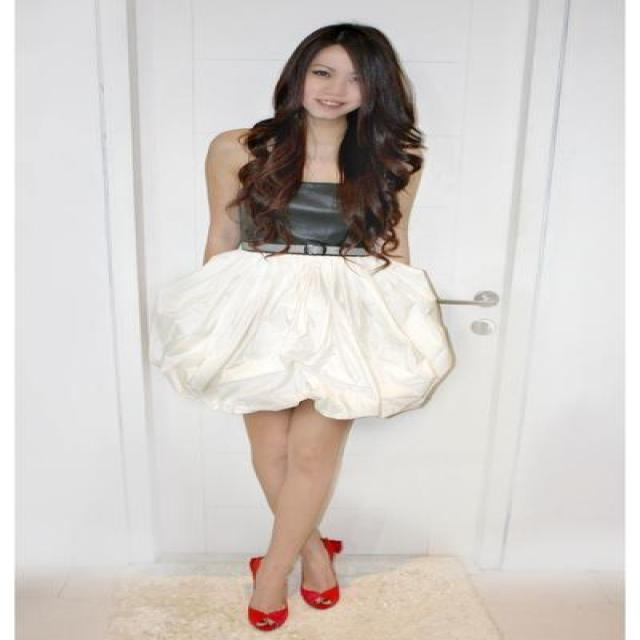shirt: (237, 182, 397, 264)
shoe: (248, 538, 341, 626)
skirt: (176, 241, 440, 418)
